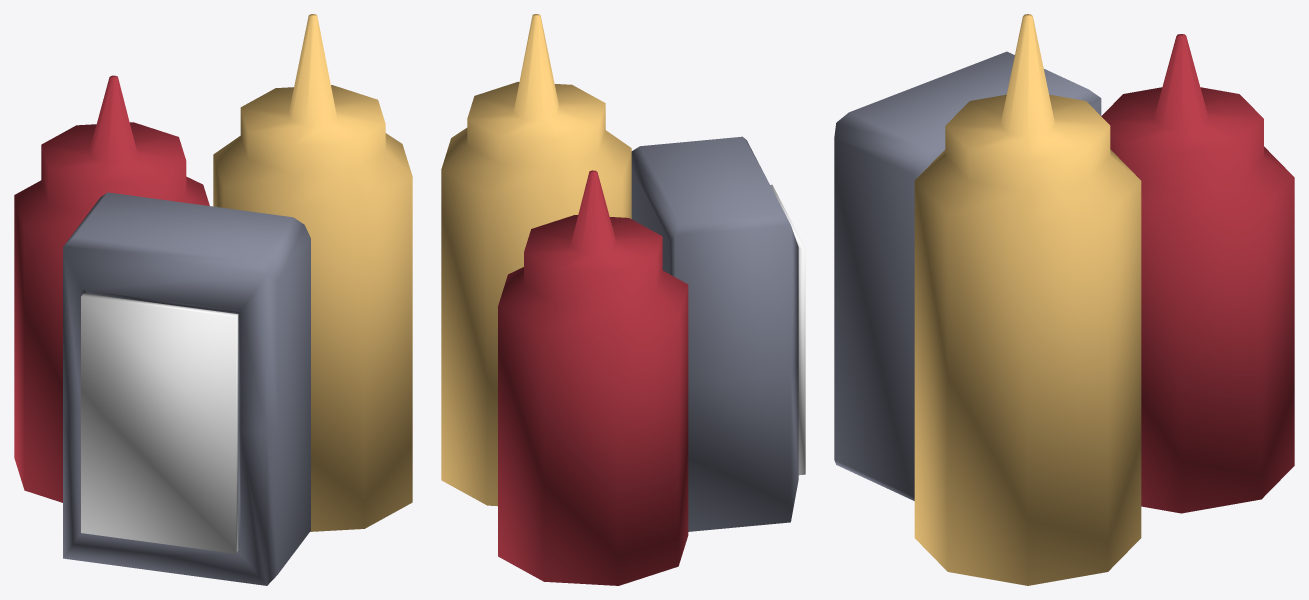
Rendered from TableDecor_03_50s.glb.
3 renders of one model, left to right at view 1: azimuth 30°, elevation 25°; view 2: azimuth 150°, elevation 25°; view 3: azimuth 270°, elevation 25°, orthographic. The views are drawn at different scales.
Visible parts, largest first — view 1: TableDecor_03_50s; view 2: TableDecor_03_50s; view 3: TableDecor_03_50s.
Part boxes in pixels (box(x1,y1,x2,y2)): TableDecor_03_50s: box(14, 14, 412, 585); TableDecor_03_50s: box(441, 14, 805, 585); TableDecor_03_50s: box(834, 14, 1294, 585).
Size of the model in its own units: 0.1195 by 0.1561 by 0.1248.
1 material, 1 textured.
